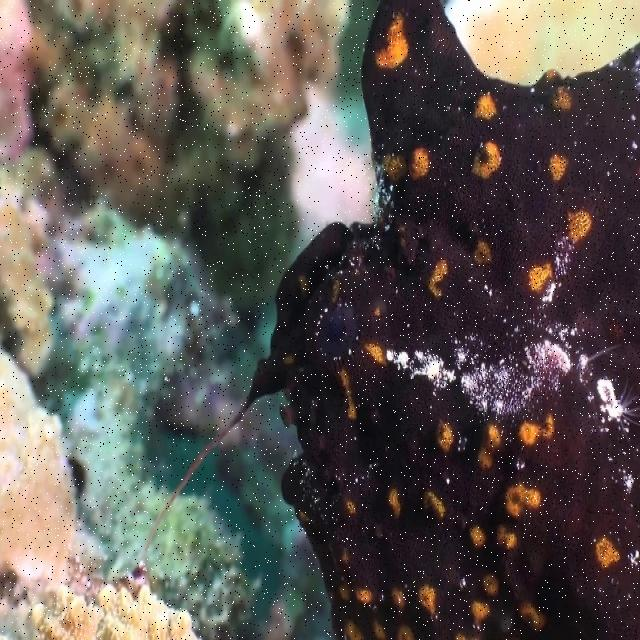fish: (144, 1, 639, 639)
